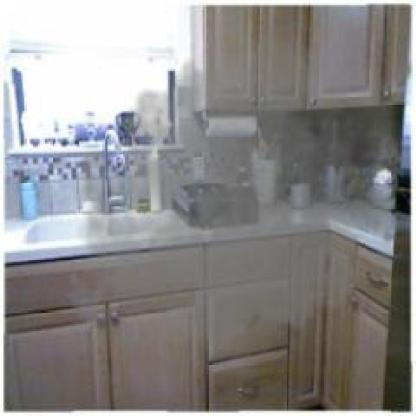Smoke: (55, 8, 414, 375)
